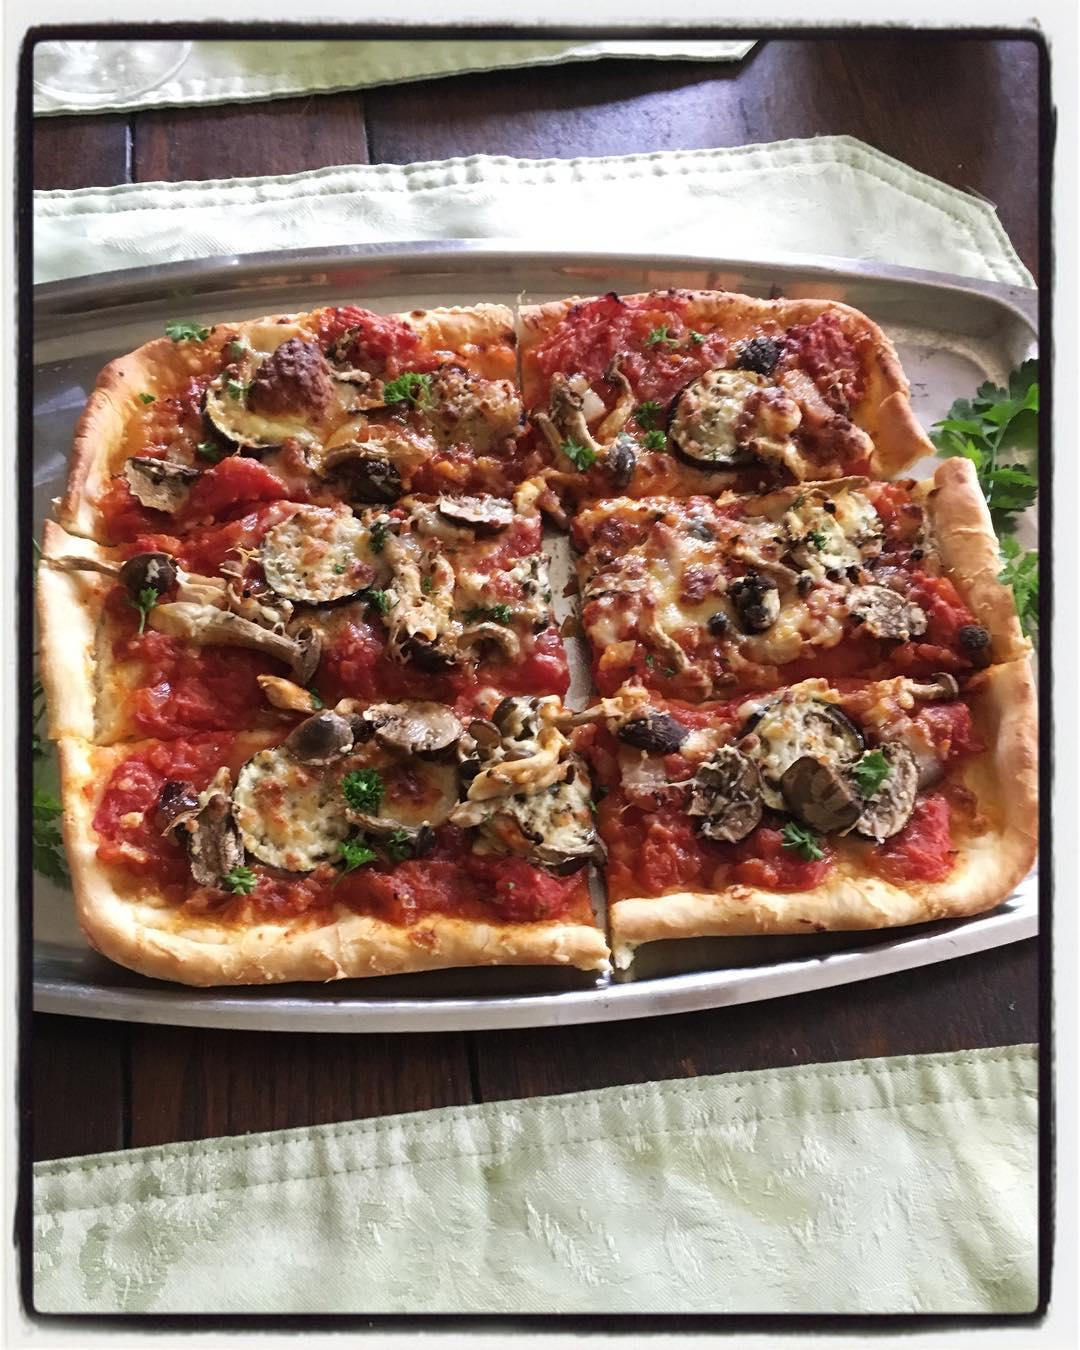Mushroom: (318, 441, 431, 498), (861, 744, 918, 840), (368, 691, 454, 753), (839, 581, 928, 639), (279, 705, 345, 771), (716, 573, 791, 628), (608, 705, 684, 752), (451, 614, 518, 660), (126, 451, 171, 493), (606, 446, 646, 492)
Pizza: (41, 309, 1036, 992)
Tomatoes: (86, 733, 216, 843), (131, 640, 238, 725), (541, 306, 667, 376), (350, 861, 456, 921), (620, 793, 687, 888), (151, 506, 267, 554), (789, 318, 866, 389), (898, 699, 985, 755), (193, 458, 281, 511), (484, 856, 564, 911), (624, 348, 704, 403), (900, 798, 951, 873), (466, 521, 541, 568), (918, 581, 971, 625), (521, 646, 564, 688)
